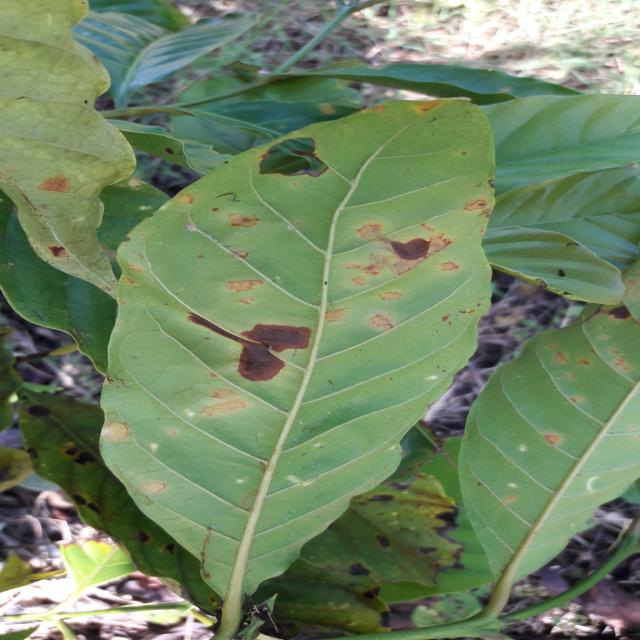Enfermedad-Roya: (96, 95, 497, 640)
